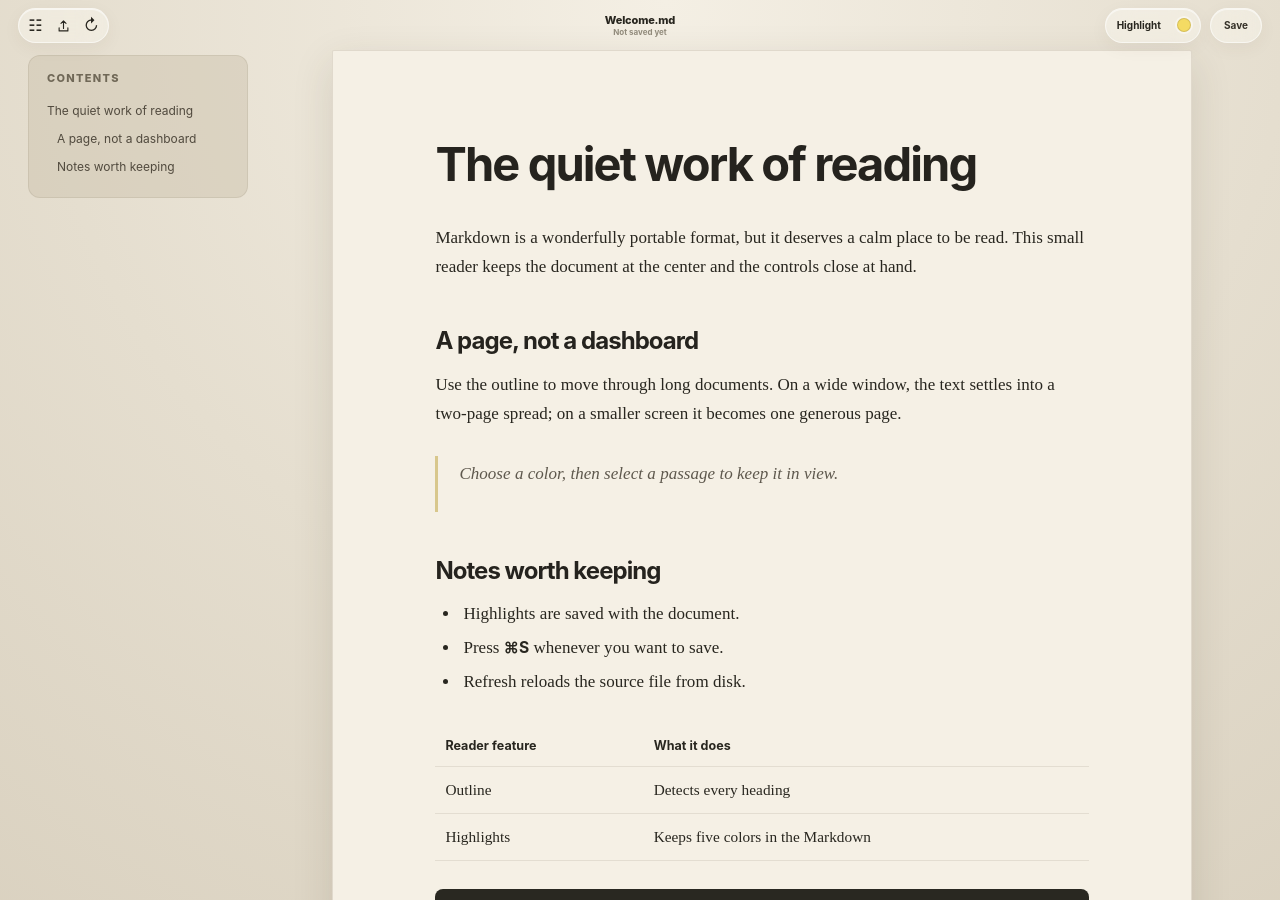
Test: Reader controls › opens a local Markdown file and saves directly through its writable handle
The image size is (1280, 900).
What coordinates should you click on to do the following:
click the button named "Upload Markdown file"
I would click on:
 (64, 25)
Its box is [50,12,77,38].
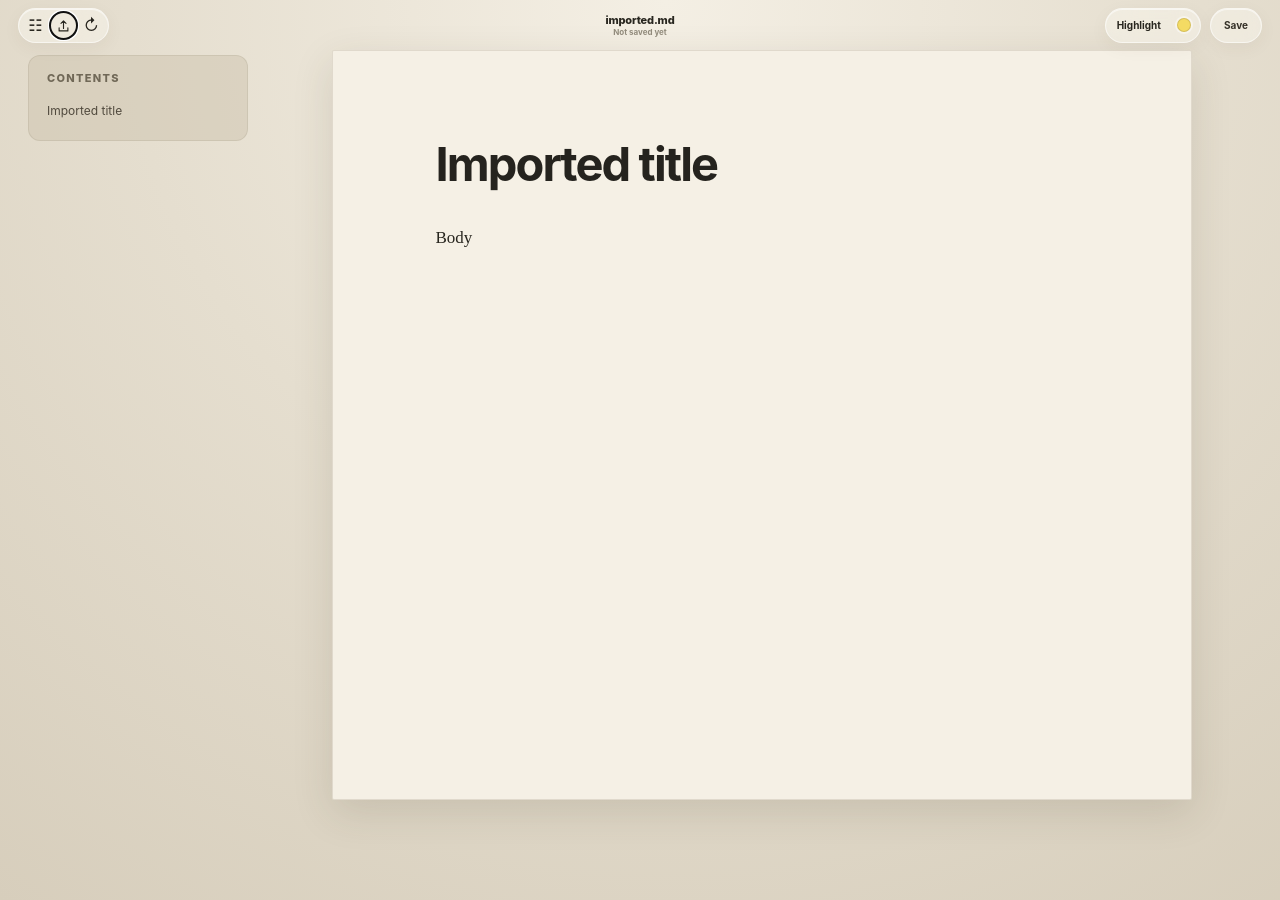
Expected: the text "imported.md" is shown, [606,13,674,27]
Expected: the button "Imported title" is shown, [37,97,239,125]
What coordinates should you click on to do the following:
click the button with aria-label "Save file"
I would click on:
 (1236, 25)
Its box is [1214,12,1258,38].
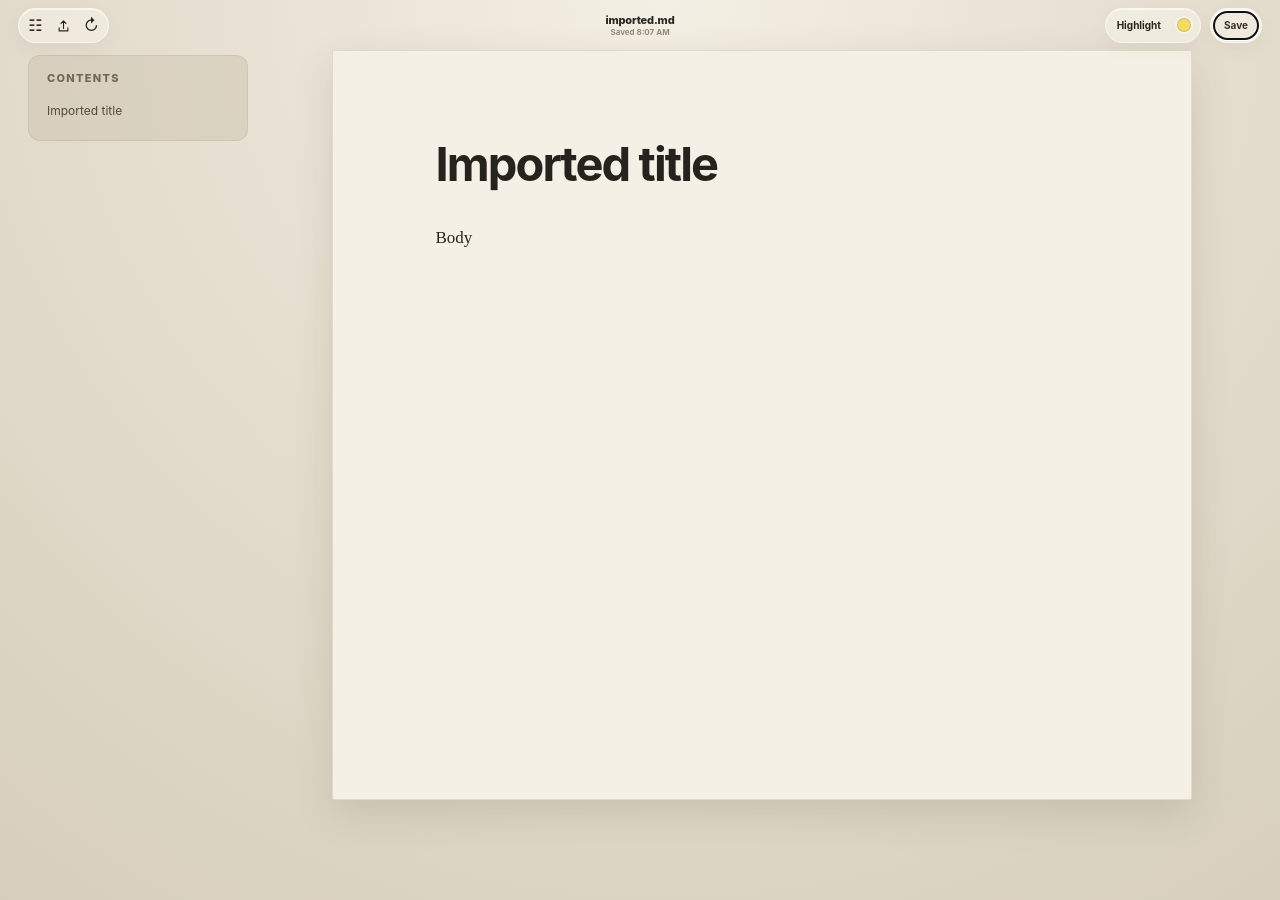
Expected: the text "Saved 8:07 AM" is shown, [610,27,670,37]
